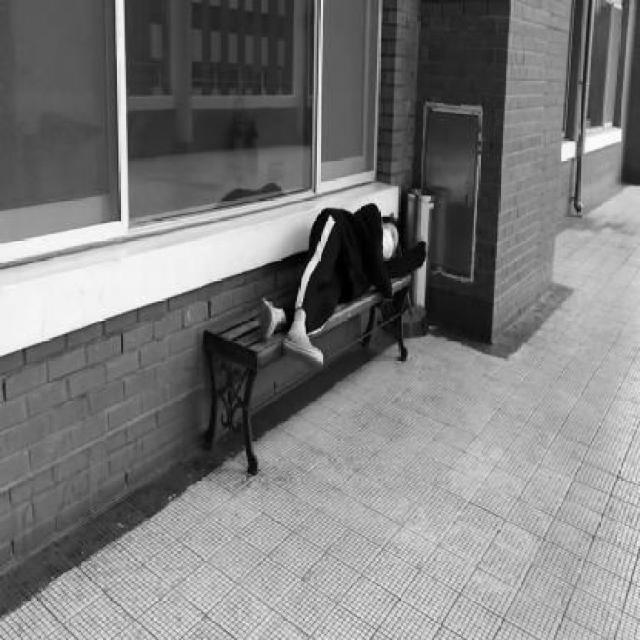person: (257, 205, 428, 358)
